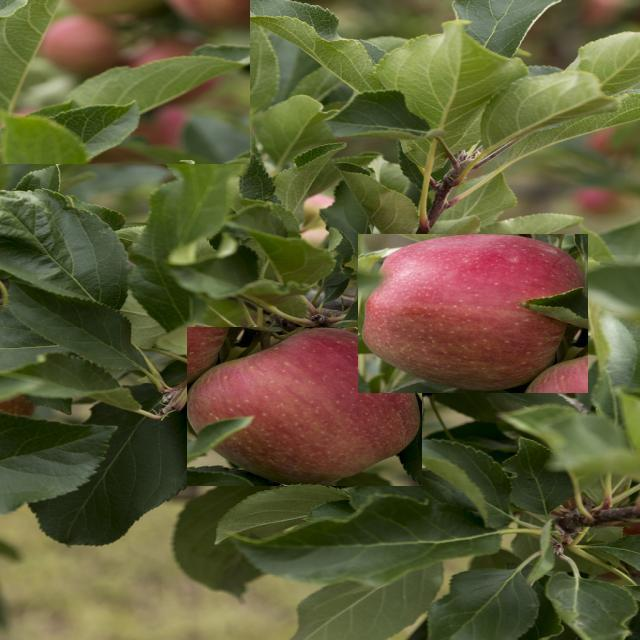Apple: (0, 0, 250, 164), (187, 327, 422, 486), (358, 234, 588, 393)
